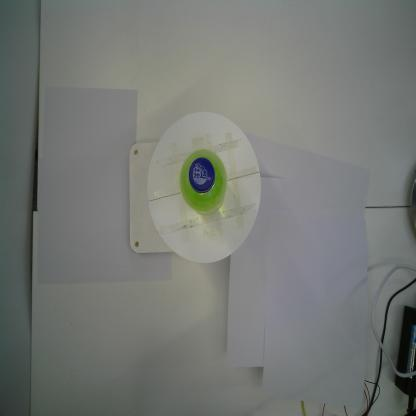Drink: (177, 145, 232, 219)
